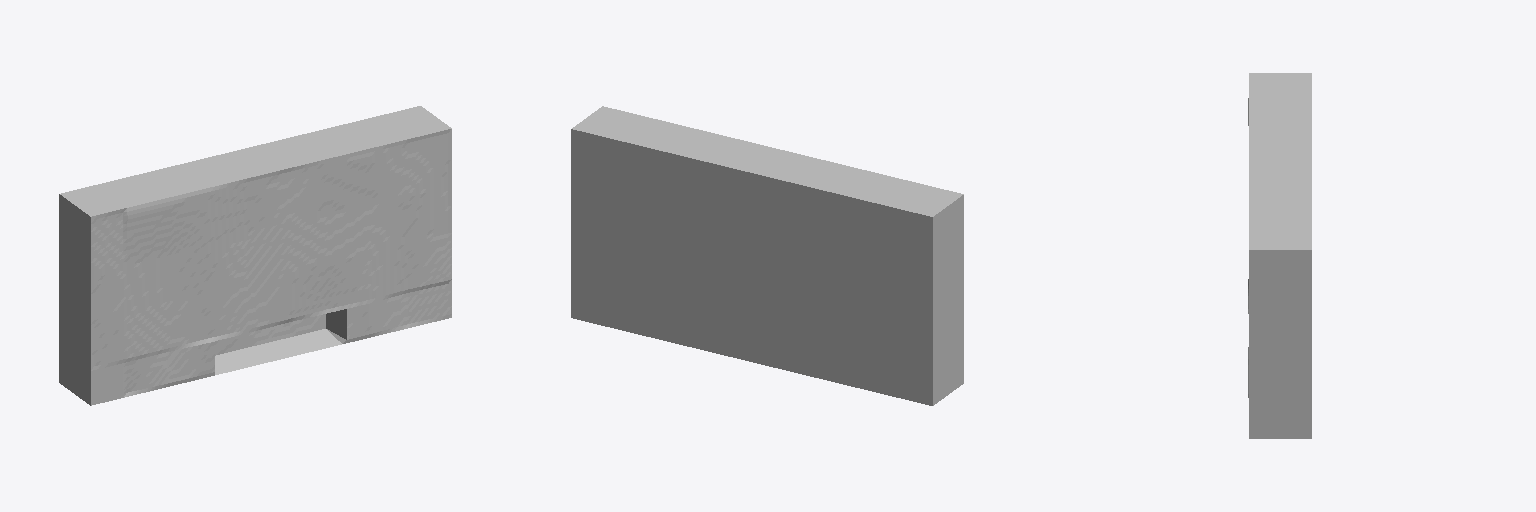
The model's file is rectangular_prism_bumps_1_2.obj.
3 renders of one model, left to right at view 1: azimuth 30°, elevation 25°; view 2: azimuth 150°, elevation 25°; view 3: azimuth 270°, elevation 25°, orthographic.
Bounding box in the file's own units: 10 × 5 × 1.53.